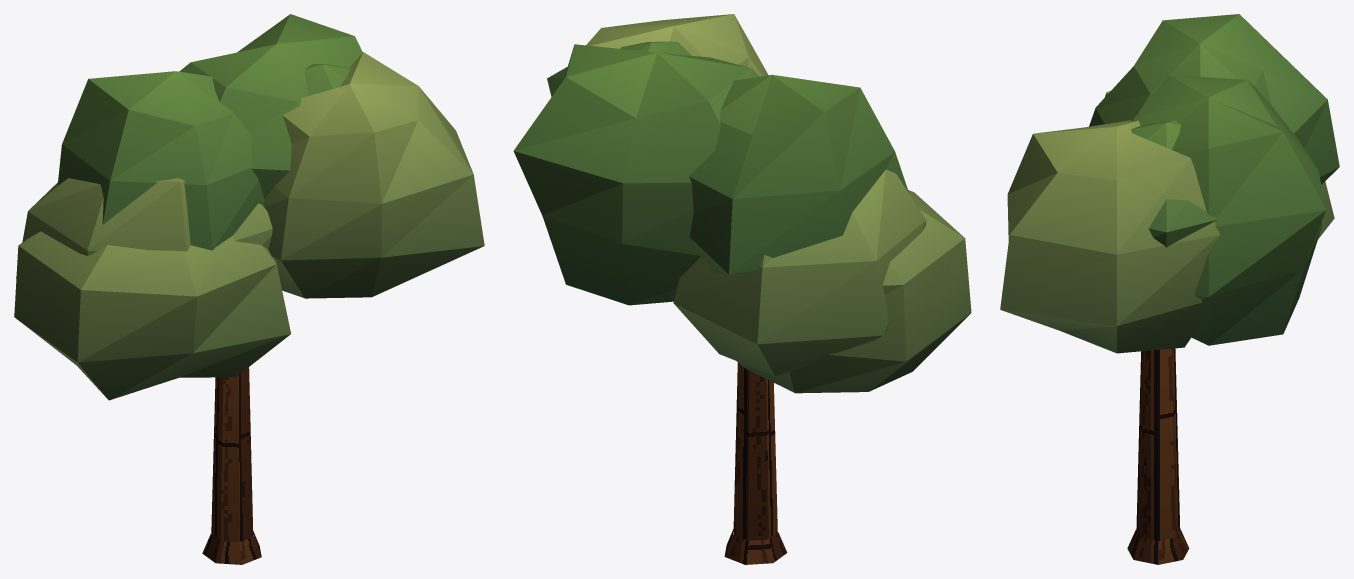
The model's file is oak_1_lowpoly.glb.
The picture shows the model from 3 angles, left to right: view 1: azimuth 30°, elevation 25°; view 2: azimuth 150°, elevation 25°; view 3: azimuth 270°, elevation 25°; orthographic projection. The views are drawn at different scales.
Visible parts, largest first — view 1: oak_1_lowpoly; view 2: oak_1_lowpoly; view 3: oak_1_lowpoly.
Boxes of the visible parts, x1,y1,x2,y2 form: oak_1_lowpoly: (14,14,484,564); oak_1_lowpoly: (513,14,971,564); oak_1_lowpoly: (1000,14,1339,564).
Bounding box in the file's own units: 5.31 × 6.12 × 3.85.
Materials: 2 (1 with a texture image).
